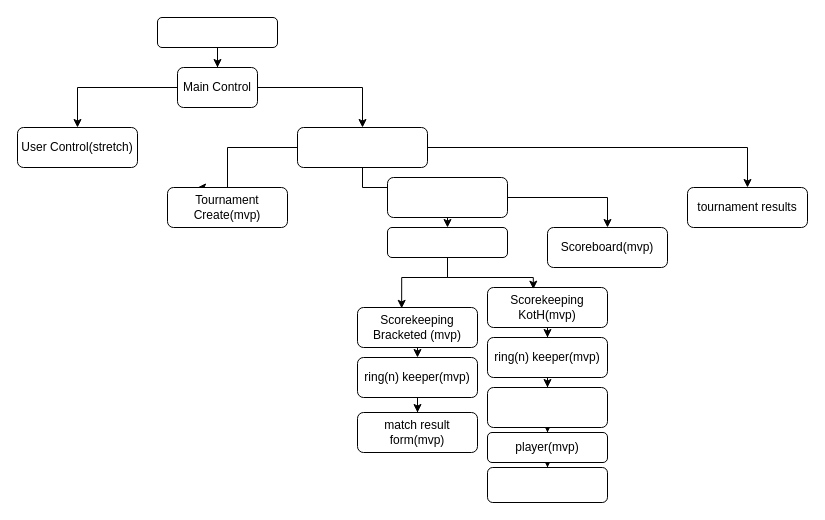
Image size: 825x520. Some labels were removed from this diagram. Each missing label, with the centre of its shape:
"App" goes at point (217, 32).
"buttons(increment & decrement)(mvp)" goes at point (547, 484).
"player list(mvp)" goes at point (547, 407).
"Scorekeeping control" goes at point (447, 242).
"Tournament Control(mvp)" goes at point (362, 147).
"Tournament Details (mvp)" goes at point (447, 197).
